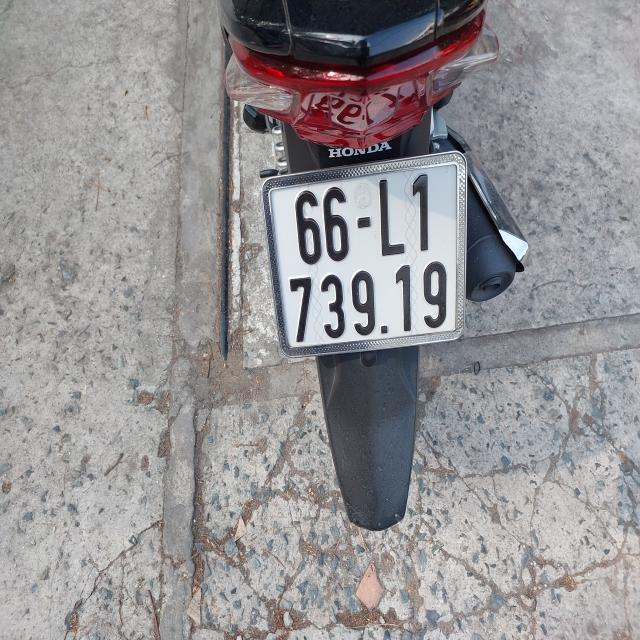1: (411, 172, 431, 255), (394, 262, 415, 335)
3: (319, 271, 347, 342)
6: (322, 185, 350, 263), (294, 190, 322, 267)
7: (286, 274, 314, 344)
9: (351, 267, 377, 338), (422, 259, 448, 330)
L: (375, 178, 405, 260)
